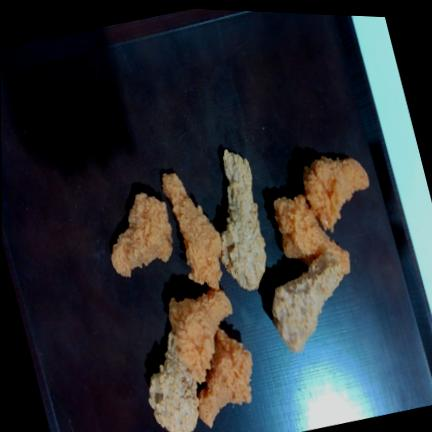chicken: (272, 252, 343, 352), (162, 172, 222, 288), (221, 149, 266, 290), (274, 194, 349, 273), (169, 288, 232, 382), (197, 328, 252, 426), (111, 192, 172, 276), (302, 155, 369, 231), (149, 332, 199, 432)
